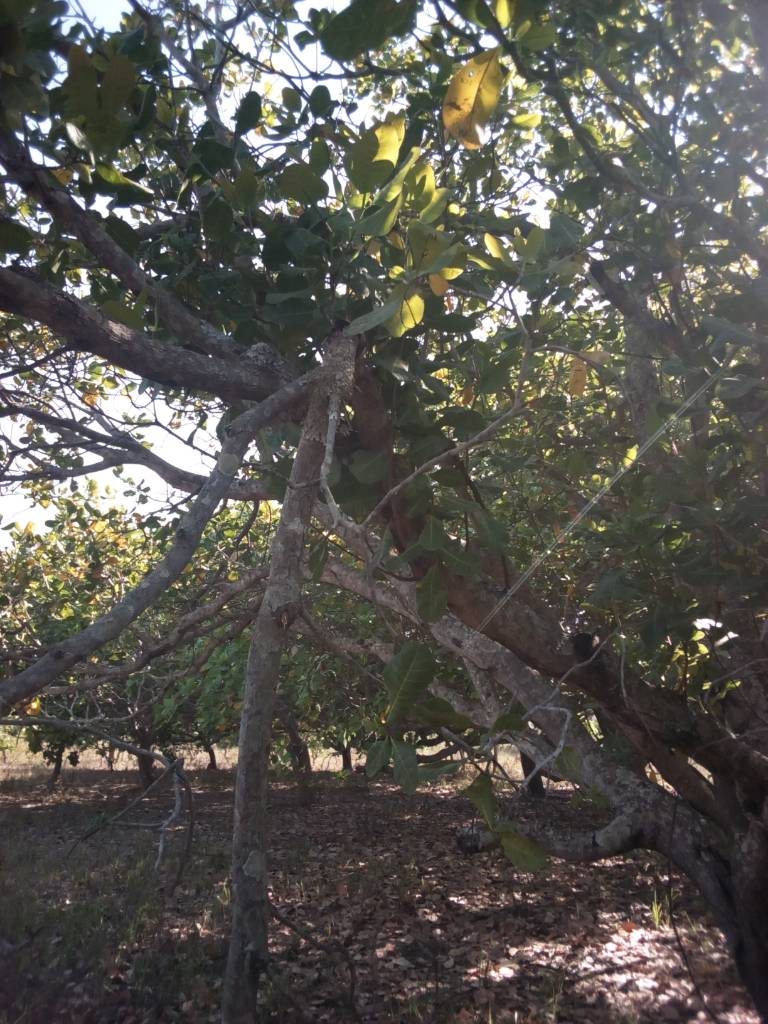Anthracnose: (446, 49, 508, 152)
